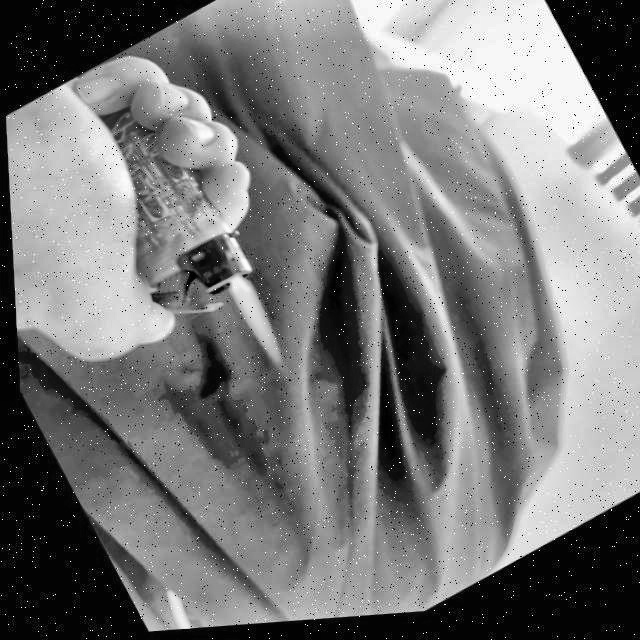Fire: (224, 278, 289, 376)
